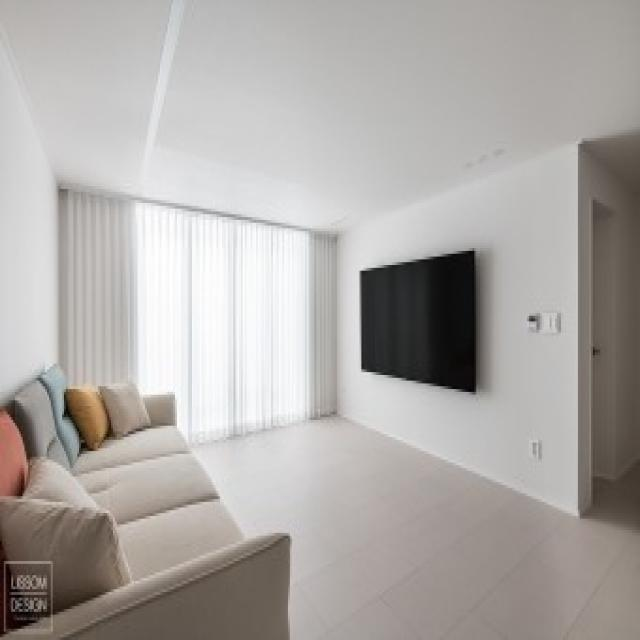Sofa: (2, 360, 291, 639)
tv: (357, 247, 478, 398)
